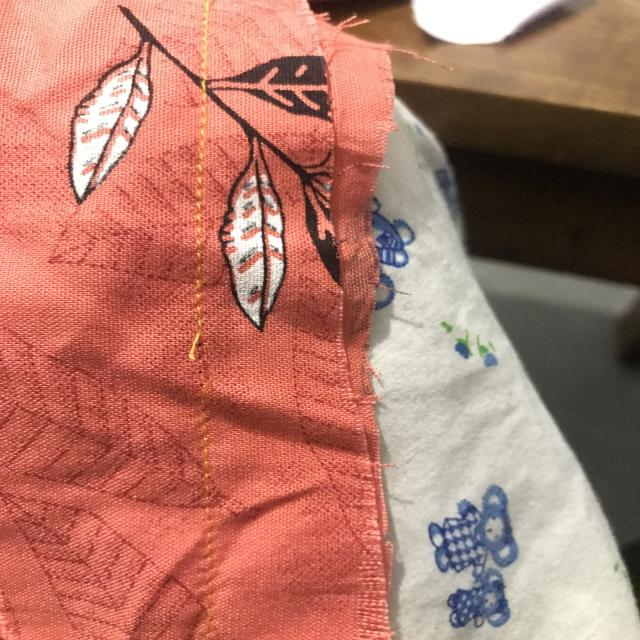broken: (172, 325, 218, 421)
good: (178, 180, 208, 274)
